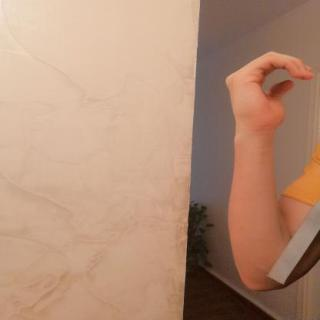JEEM: (214, 44, 319, 142)
